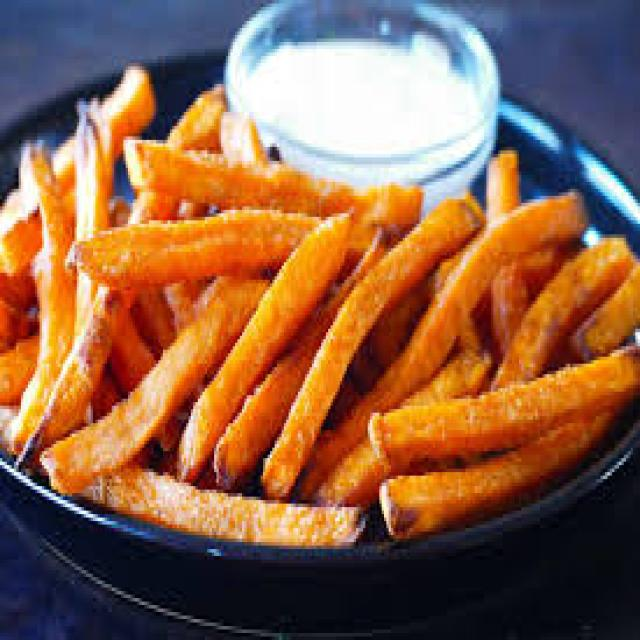감자튀김: (10, 97, 640, 556)
